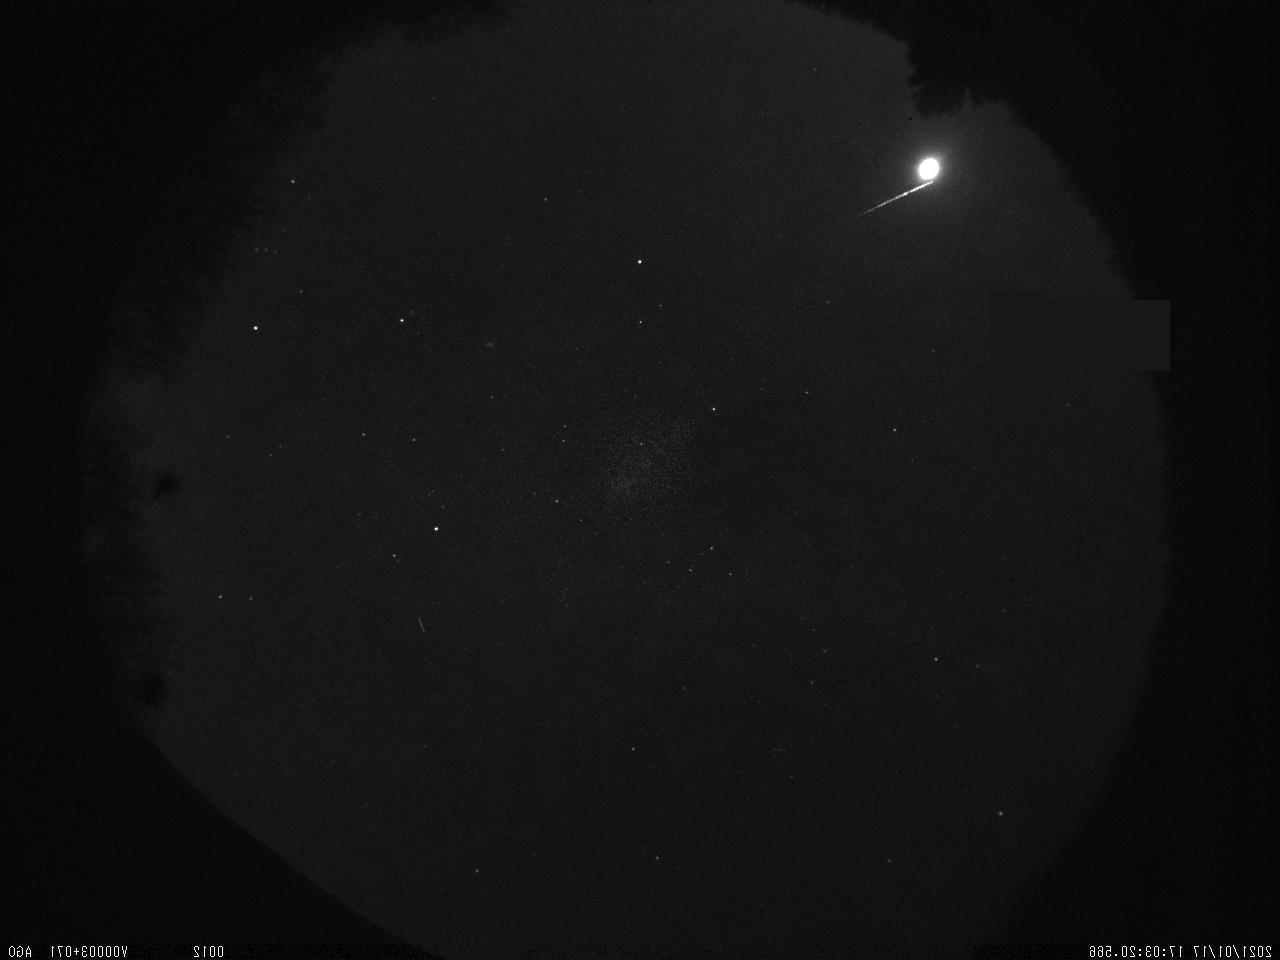meteor: (845, 171, 945, 227)
